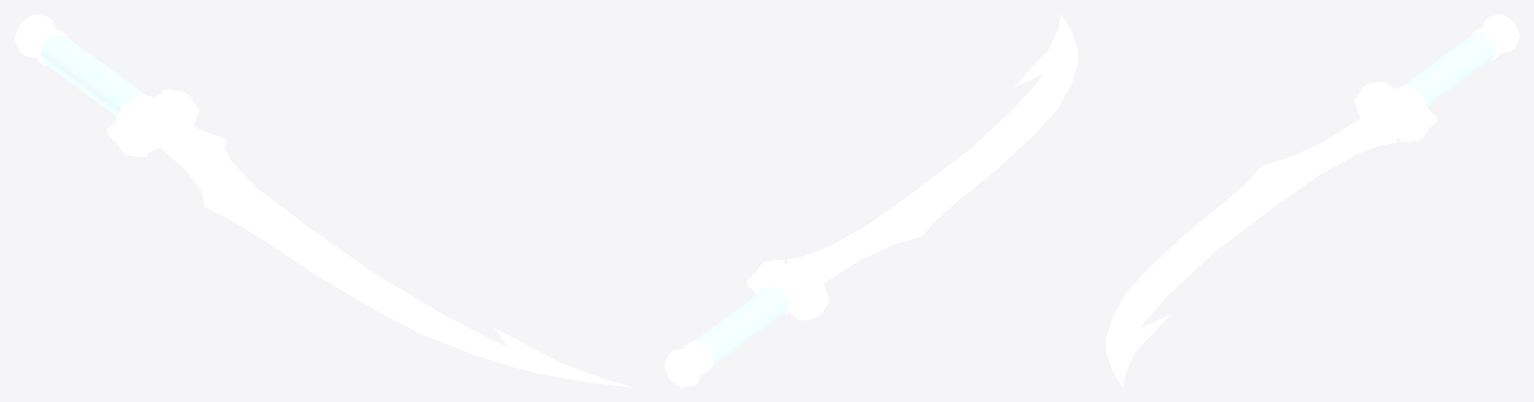
File: sword.glb
3 views of the same model, side by side, from view 1: azimuth 30°, elevation 25°; view 2: azimuth 150°, elevation 25°; view 3: azimuth 330°, elevation 25° (orthographic). The views are drawn at different scales.
Visible parts, largest first — view 1: Assassin Sword; view 2: Assassin Sword; view 3: Assassin Sword.
Boxes of the visible parts, bbox=[...] form: Assassin Sword: bbox=[14, 14, 634, 387]; Assassin Sword: bbox=[664, 14, 1077, 387]; Assassin Sword: bbox=[1106, 14, 1519, 387].
Bounding box in the file's own units: 0.1875 × 0.0752 × 1.23.
Materials: 1 (1 with a texture image).
